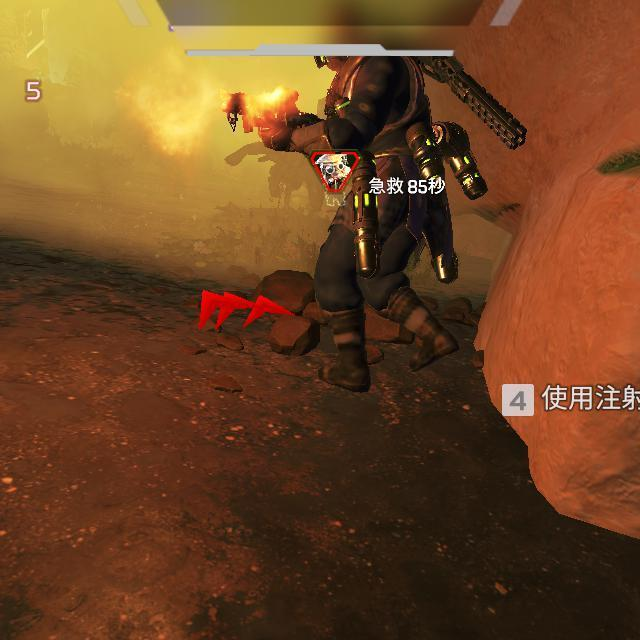avatar: (307, 55, 464, 395)
